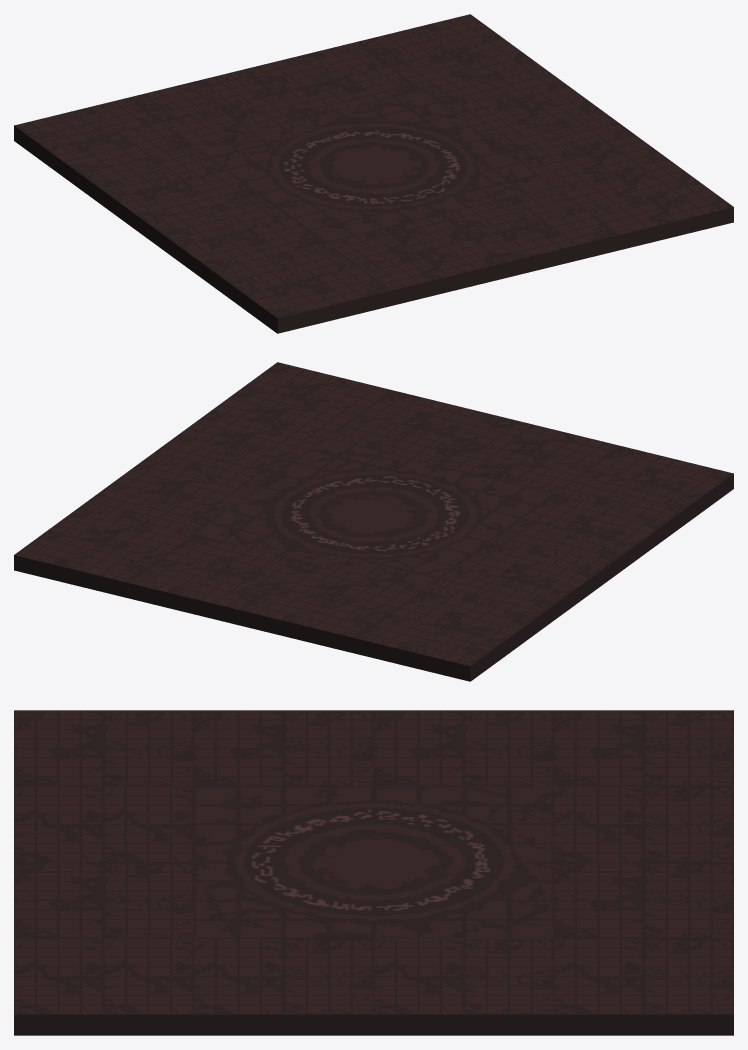
Rendered from tileMonument.fbx.
3 renders of one model, top to bottom at view 1: azimuth 30°, elevation 25°; view 2: azimuth 150°, elevation 25°; view 3: azimuth 270°, elevation 25°, orthographic. The views are drawn at different scales.
Visible parts, largest first — view 1: TIle1; view 2: TIle1; view 3: TIle1.
Part boxes in pixels (bbox=[...]): TIle1: bbox=[14, 14, 733, 333]; TIle1: bbox=[14, 362, 733, 681]; TIle1: bbox=[14, 710, 733, 1035].
Bounding box in the file's own units: 31 × 1 × 31.
